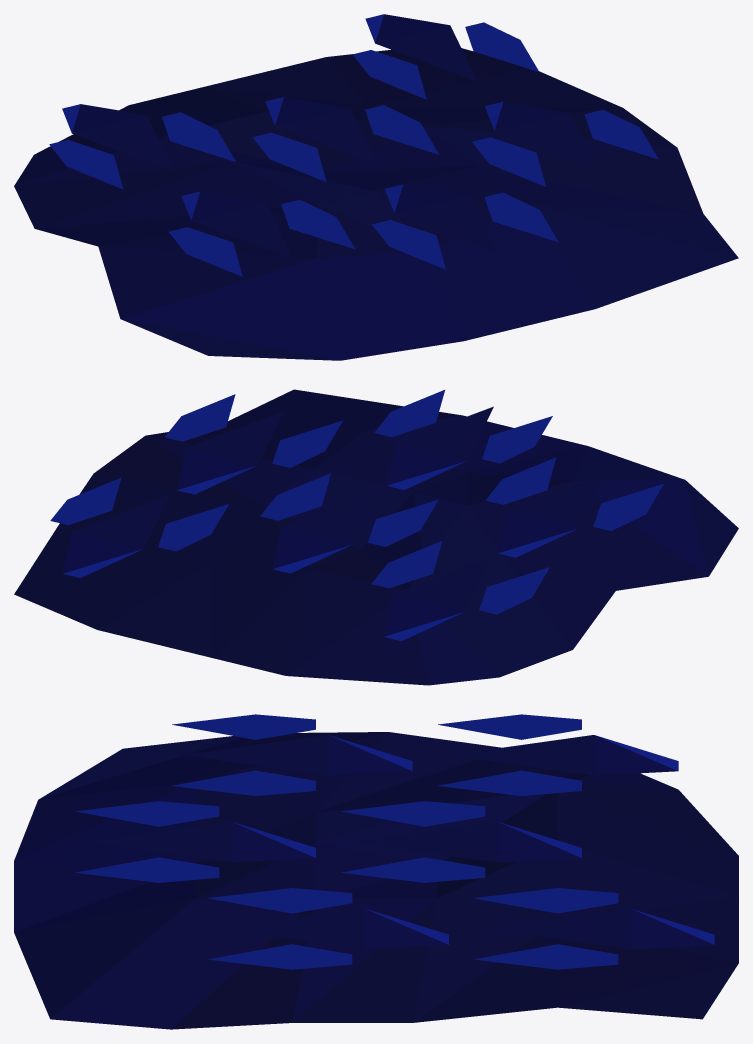
The model's file is blue-dhide.obj.
3 renders of one model, top to bottom at view 1: azimuth 30°, elevation 25°; view 2: azimuth 150°, elevation 25°; view 3: azimuth 270°, elevation 25°, orthographic. The views are drawn at different scales.
Visible parts, largest first — view 1: Item Green dragonhide 2026-10-18_17-01-35; view 2: Item Green dragonhide 2026-10-18_17-01-35; view 3: Item Green dragonhide 2026-10-18_17-01-35.
Boxes of the visible parts, x1,y1,x2,y2 form: Item Green dragonhide 2026-10-18_17-01-35: (14,14,738,360); Item Green dragonhide 2026-10-18_17-01-35: (14,389,738,685); Item Green dragonhide 2026-10-18_17-01-35: (14,714,738,1029).
Size of the model in its own units: 61 by 5 by 60.
